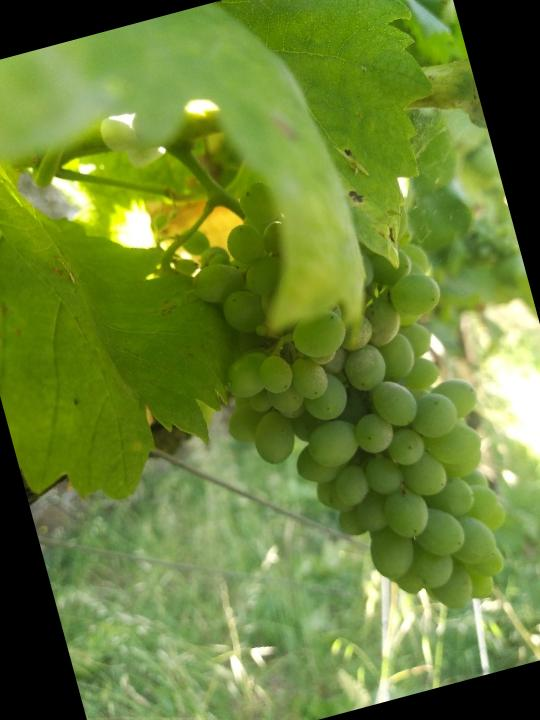grape: (169, 140, 540, 657)
